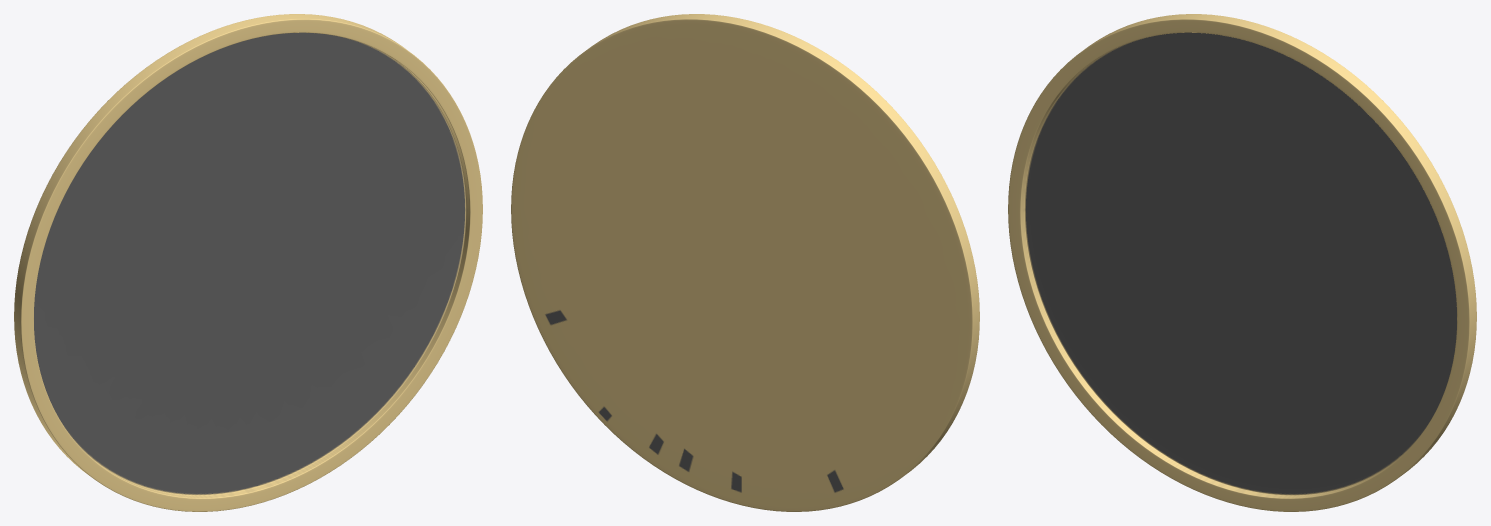
The model's file is Mirror_001(Gold).gltf.
3 views of the same model, side by side, from view 1: azimuth 30°, elevation 25°; view 2: azimuth 150°, elevation 25°; view 3: azimuth 330°, elevation 25° (orthographic).
Parts seen in each view (by area): view 1: Mirror_001; view 2: Mirror_001; view 3: Mirror_001.
Boxes of the visible parts, box(x1,y1,x2,y2) form: Mirror_001: box(14, 14, 482, 511); Mirror_001: box(511, 14, 979, 511); Mirror_001: box(1008, 14, 1476, 511).
Size of the model in its own units: 0.7086 by 0.7035 by 0.0199.
Materials: 1 (1 with a texture image).
